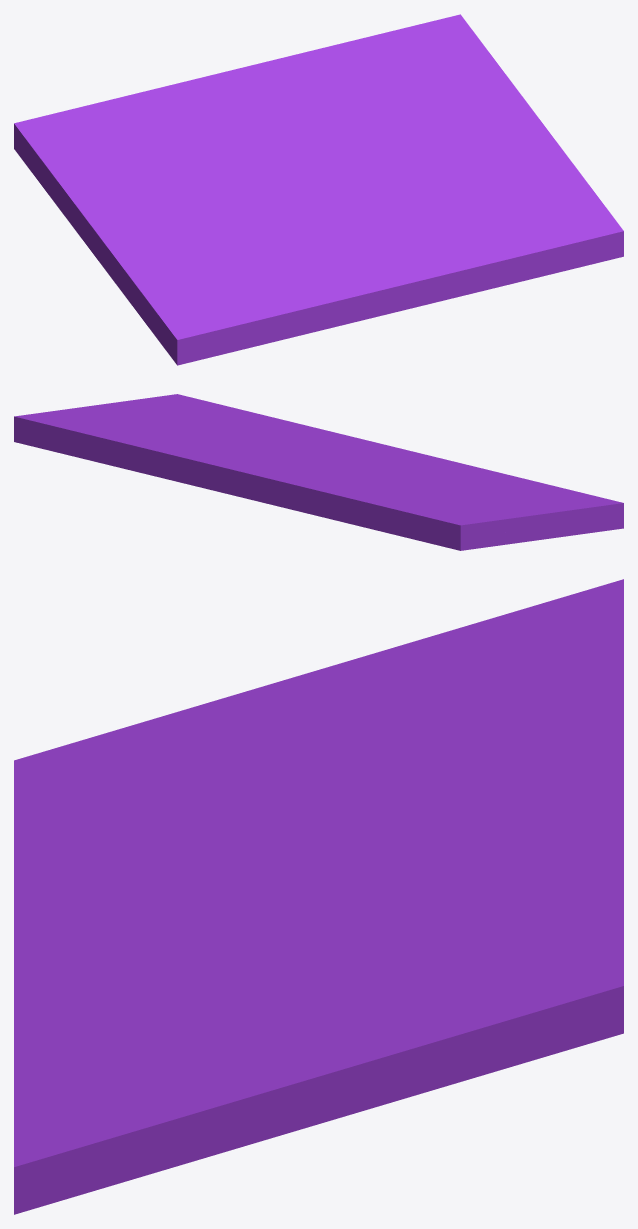
Rendered from Window_159_chunks.fbx.
3 views of the same model, one above another, from view 1: azimuth 30°, elevation 25°; view 2: azimuth 150°, elevation 25°; view 3: azimuth 270°, elevation 25° (orthographic). The views are drawn at different scales.
Parts seen in each view (by area): view 1: Window_159_0, Window_159_1, Window_159_2, Window_159_3; view 2: Window_159_2, Window_159_3, Window_159_0, Window_159_1; view 3: Window_159_0, Window_159_2, Window_159_3, Window_159_1.
Boxes of the visible parts, box(x1,y1,x2,y2) form: Window_159_0: box(321, 98, 623, 320); Window_159_1: box(38, 181, 361, 365); Window_159_2: box(144, 14, 523, 173); Window_159_3: box(14, 91, 328, 215); Window_159_2: box(14, 408, 352, 524); Window_159_3: box(308, 457, 529, 550); Window_159_0: box(77, 394, 451, 461); Window_159_1: box(357, 461, 623, 547); Window_159_0: box(14, 879, 389, 1214); Window_159_2: box(321, 697, 623, 1102); Window_159_3: box(244, 579, 623, 881); Window_159_1: box(14, 656, 363, 916).
Bounding box in the file's own units: 1838 × 482 × 1165.
